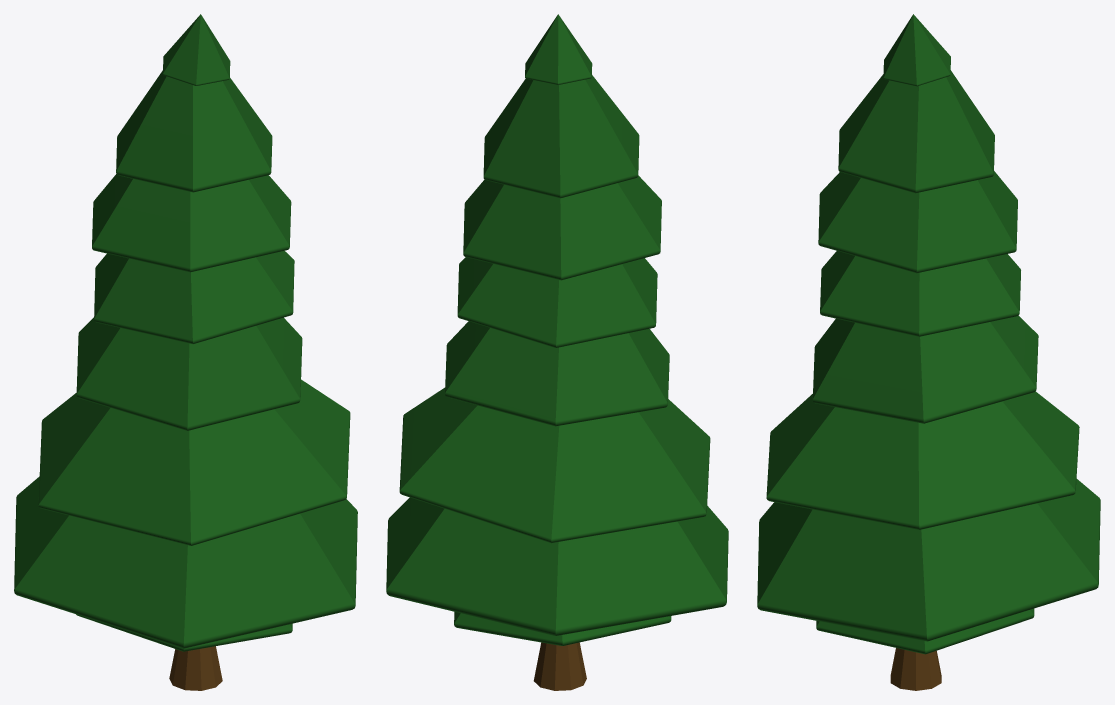
File: Tallest_Tree_01.fbx
3 renders of one model, left to right at view 1: azimuth 30°, elevation 25°; view 2: azimuth 150°, elevation 25°; view 3: azimuth 270°, elevation 25°, orthographic.
Parts seen in each view (by area): view 1: tall_tree_leaves_02, tall_tree_leaves_03, tall_tree_leaves_04, tall_tree_leaves_06, tall_tree_leaves_05, tall_tree_leaves_07, tall_tree_leaves_08, tall_tree_base, tall_tree_leaves_01; view 2: tall_tree_leaves_03, tall_tree_leaves_02, tall_tree_leaves_04, tall_tree_leaves_06, tall_tree_leaves_07, tall_tree_leaves_05, tall_tree_leaves_08, tall_tree_leaves_01, tall_tree_base; view 3: tall_tree_leaves_02, tall_tree_leaves_03, tall_tree_leaves_04, tall_tree_leaves_06, tall_tree_leaves_07, tall_tree_leaves_05, tall_tree_leaves_08, tall_tree_leaves_01, tall_tree_base.
Boxes of the visible parts, x1,y1,x2,y2 form: tall_tree_leaves_02: (14,476,357,648); tall_tree_leaves_03: (38,379,350,545); tall_tree_leaves_04: (76,317,302,430); tall_tree_leaves_06: (92,174,291,272); tall_tree_leaves_05: (94,250,294,343); tall_tree_leaves_07: (116,70,272,192); tall_tree_leaves_08: (163,14,230,85); tall_tree_base: (169,646,222,690); tall_tree_leaves_01: (76,614,292,651); tall_tree_leaves_03: (399,387,710,543); tall_tree_leaves_02: (386,497,728,635); tall_tree_leaves_04: (445,321,669,426); tall_tree_leaves_06: (463,175,661,280); tall_tree_leaves_07: (483,75,639,198); tall_tree_leaves_05: (457,257,657,347); tall_tree_leaves_08: (525,14,592,84); tall_tree_leaves_01: (454,612,671,645); tall_tree_base: (533,642,586,690); tall_tree_leaves_02: (757,479,1100,641); tall_tree_leaves_03: (766,391,1079,529); tall_tree_leaves_04: (812,315,1038,423); tall_tree_leaves_06: (818,171,1017,273); tall_tree_leaves_07: (838,70,994,193); tall_tree_leaves_05: (820,251,1020,336); tall_tree_leaves_08: (883,14,950,86); tall_tree_leaves_01: (816,608,1034,654); tall_tree_base: (890,648,941,690).
Bounding box in the file's own units: 292 × 544 × 254.
